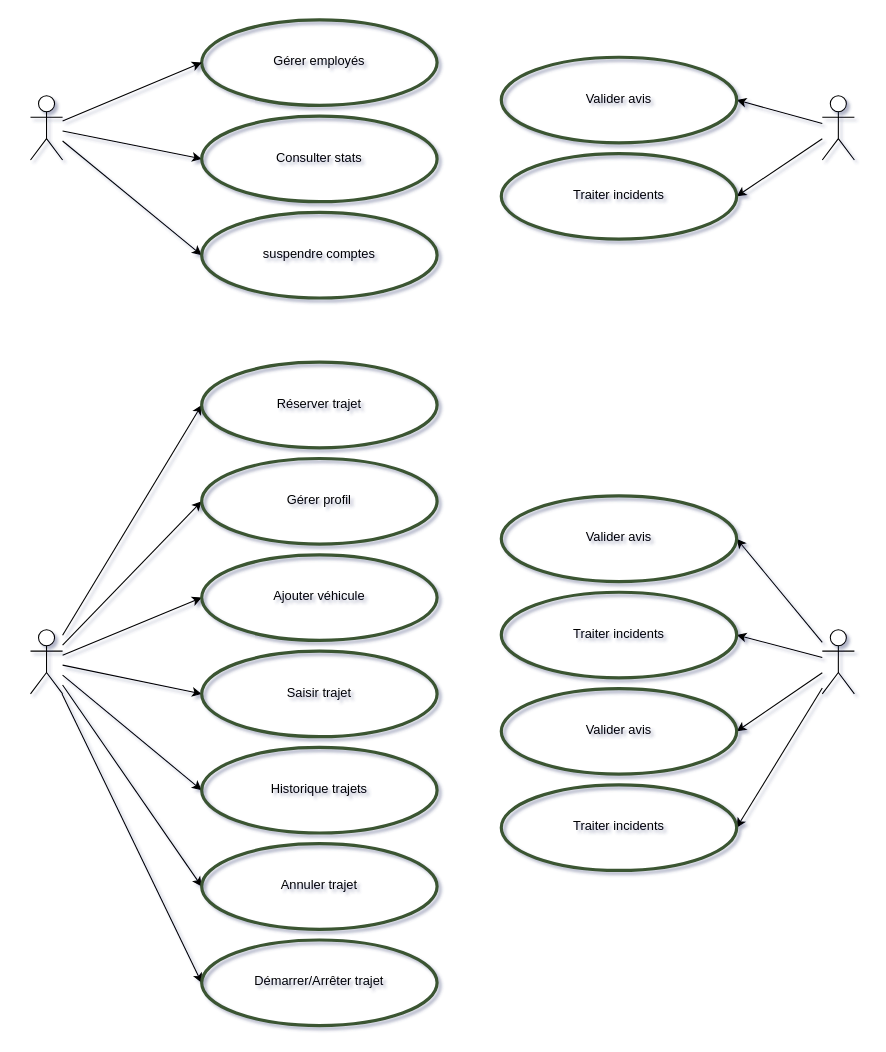
The diagram is 886 pixels wide and 1052 high, and some of its shapes have lost their labels. Here are the shapes that lost their labels. From the top down, the box of each, then its label:
(29, 95, 63, 160): Admin
(821, 95, 854, 160): Employé
(29, 629, 63, 694): Utilisateur
(821, 629, 854, 694): Visiteur
